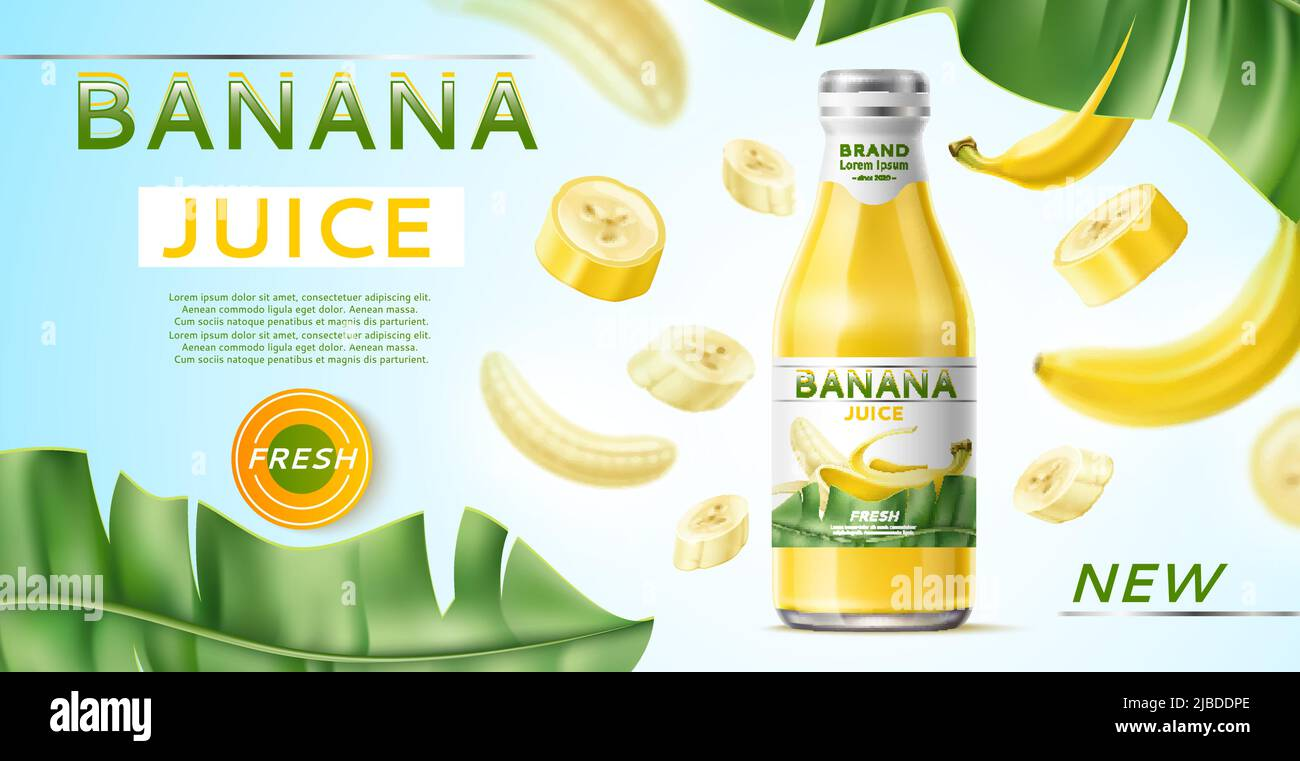Headline: (77, 80, 535, 258)
Product: (636, 79, 1069, 625)
